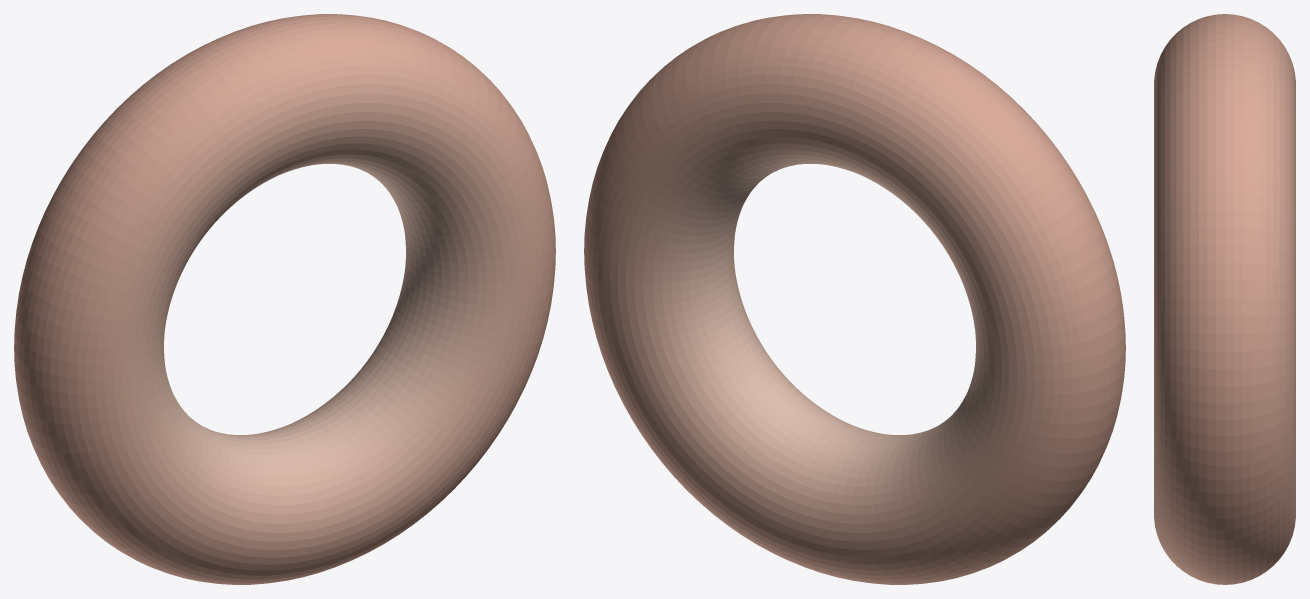
The picture shows the model from 3 angles, left to right: view 1: azimuth 30°, elevation 25°; view 2: azimuth 150°, elevation 25°; view 3: azimuth 270°, elevation 25°; orthographic projection. The views are drawn at different scales.
Visible parts, largest first — view 1: world; view 2: world; view 3: world.
Part boxes in pixels (x1,y1,x2,y2): world: (14, 14, 555, 584); world: (584, 14, 1125, 584); world: (1154, 14, 1295, 584).
Size of the model in its own units: 28.4 by 28.4 by 7.05.
